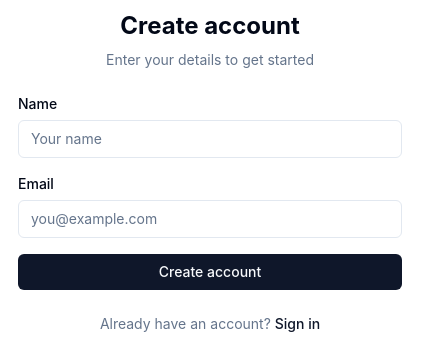
Scenario: RegisterPage › transitions to PIN step after successful registration
The width and height of the screenshot is (421, 349).
In the field with id "name": (210, 139) left=18, top=120, right=402, bottom=158, type "Alice"
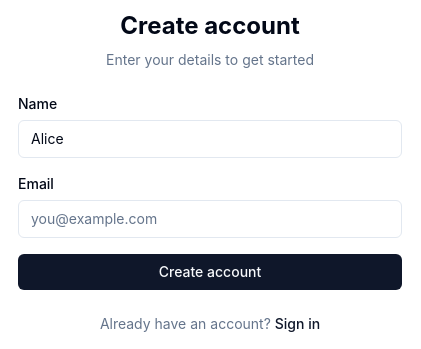
In the field with id "reg-email": (210, 219) left=18, top=200, right=402, bottom=238, type "alice@example.com"
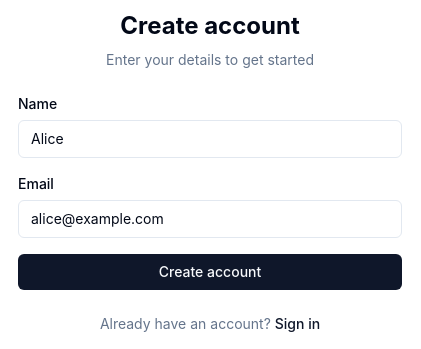
Submit the form, box left=18, top=94, right=402, bottom=290
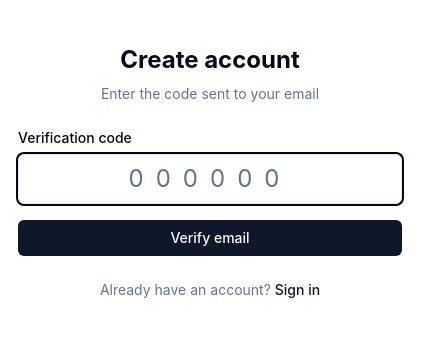
Expected: the field with id "reg-pin" is shown, left=18, top=154, right=402, bottom=204
Expected: the submit button reads "Verify email", left=18, top=220, right=402, bottom=256
